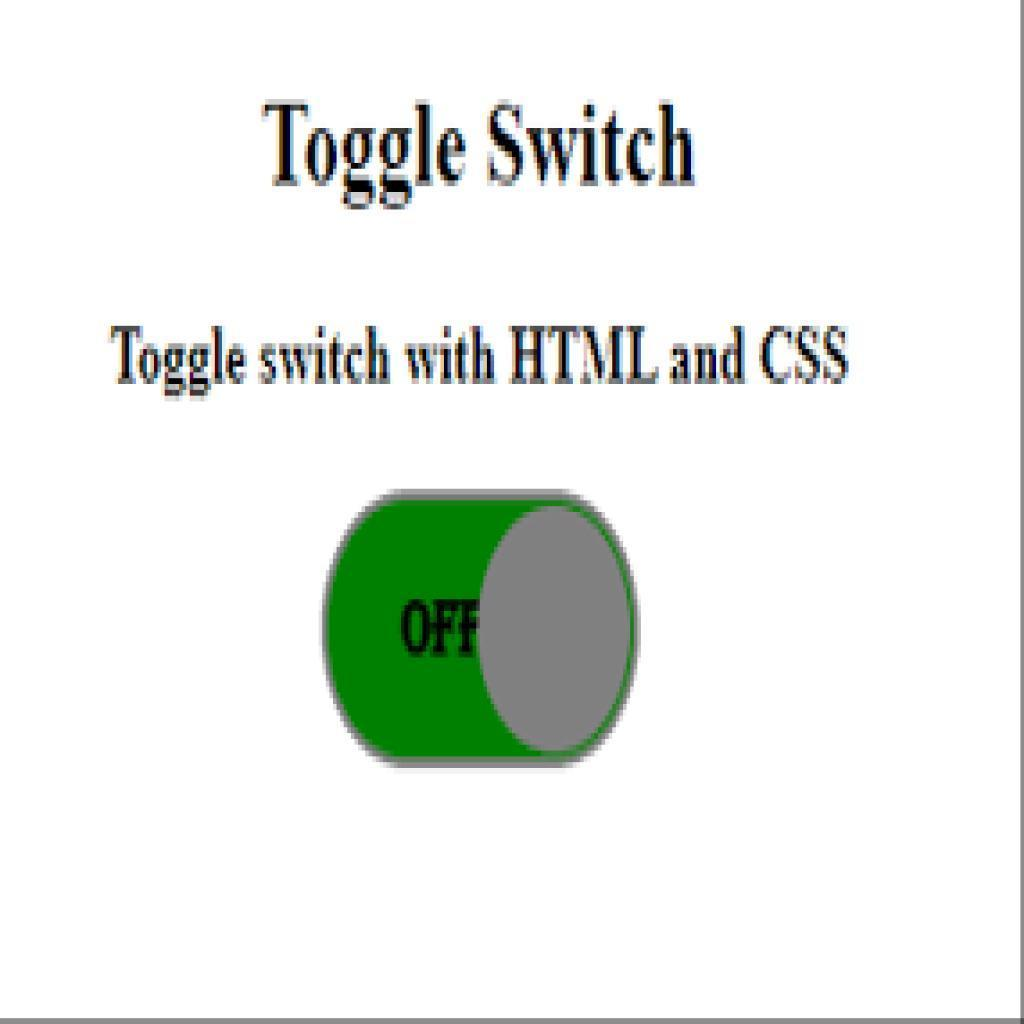label: (107, 319, 859, 399), (256, 93, 702, 192)
switch: (324, 494, 643, 775)
